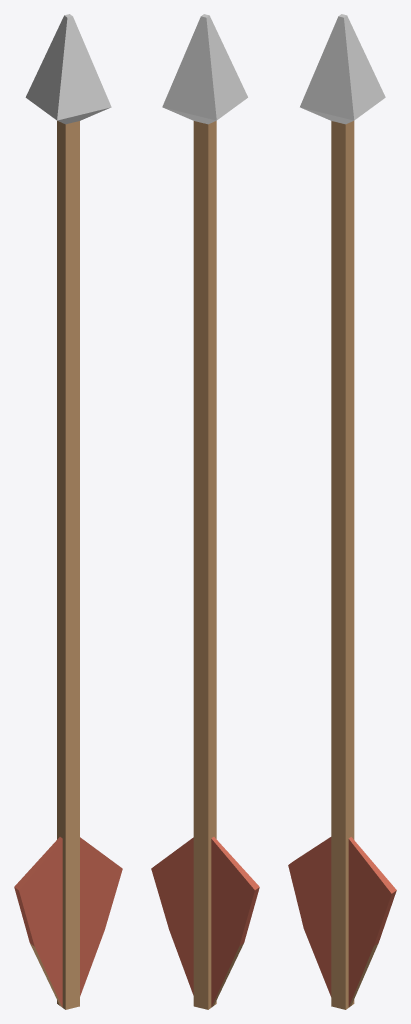
The model's file is Arrow.fbx.
The picture shows the model from 3 angles, left to right: view 1: azimuth 30°, elevation 25°; view 2: azimuth 150°, elevation 25°; view 3: azimuth 330°, elevation 25°; orthographic projection.
Visible parts, largest first — view 1: Cube; view 2: Cube; view 3: Cube.
Part boxes in pixels (box(x1,y1,x2,y2)): Cube: box(14, 14, 122, 1009); Cube: box(151, 14, 259, 1009); Cube: box(288, 14, 396, 1009).
Bounding box in the file's own units: 5.49 × 50 × 2.89.
